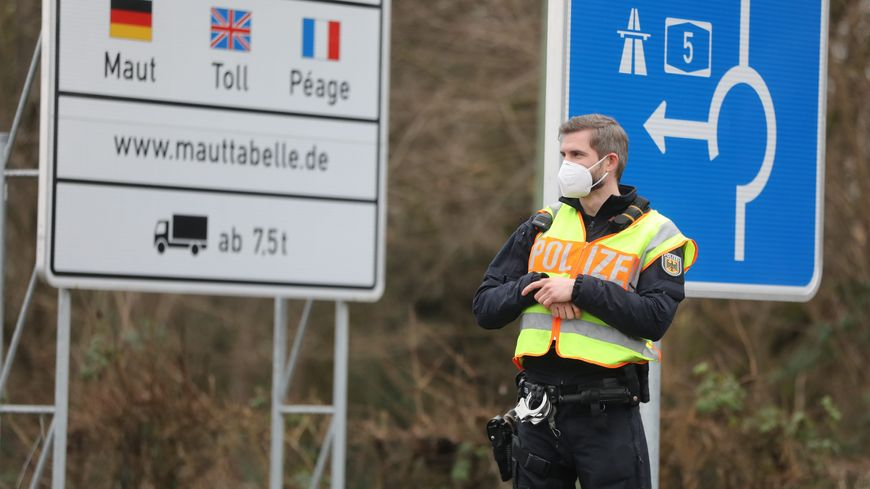with_mask: (550, 123, 627, 198)
